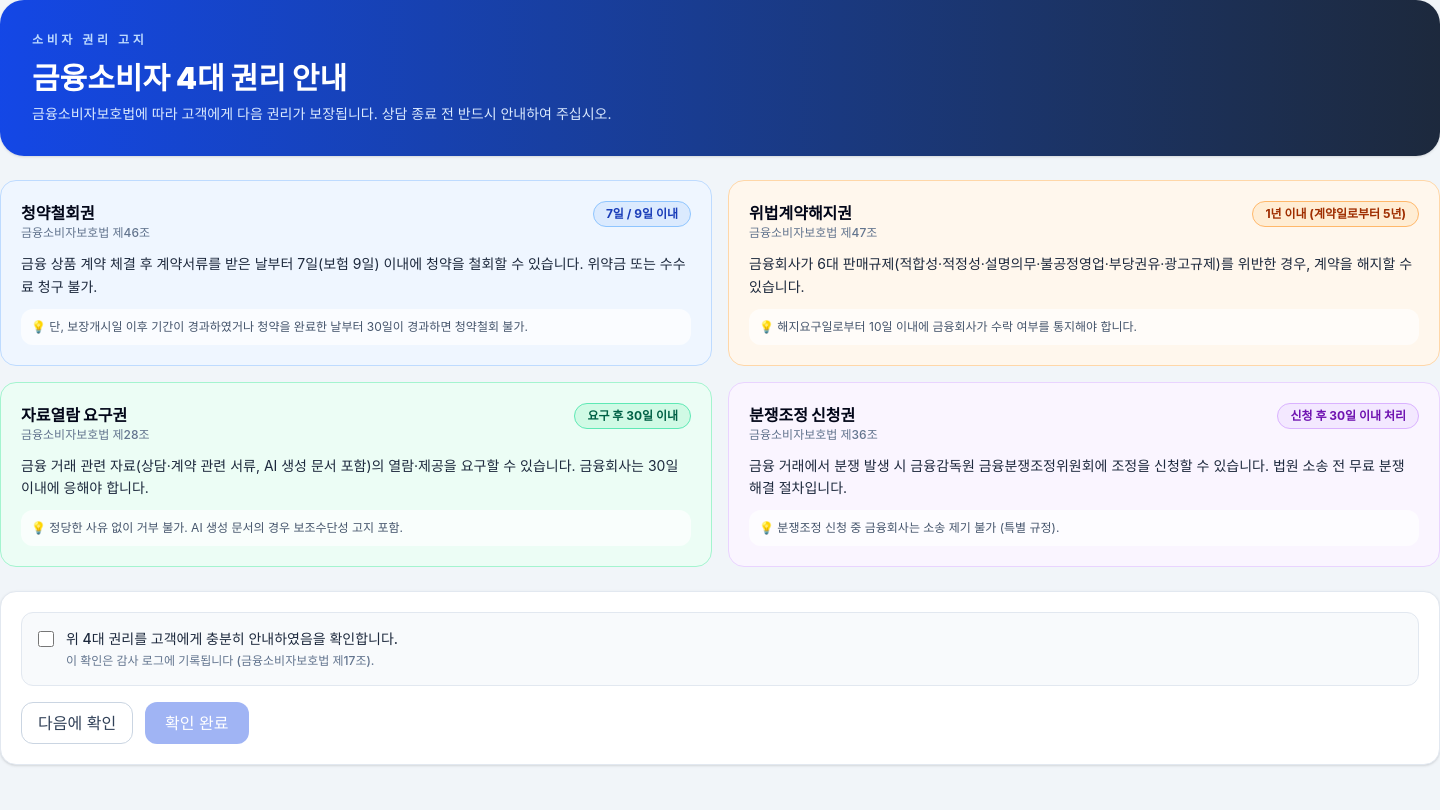
Test: RightsNoticePage a11y › success status has aria-live=polite
Click the checkbox at (46, 639), box [38, 631, 54, 647]
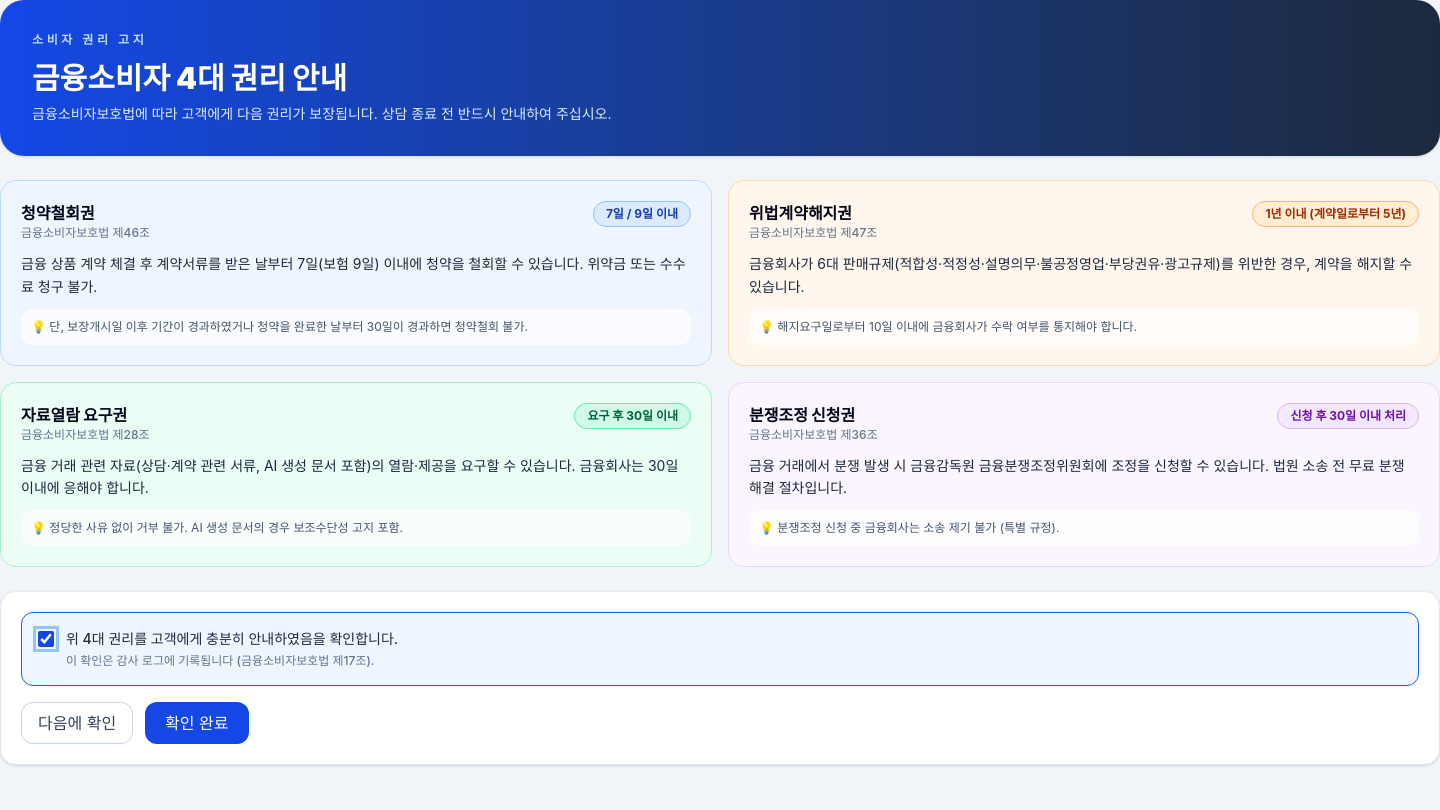
Click the button "확인 완료" at (197, 723), box [145, 702, 248, 744]
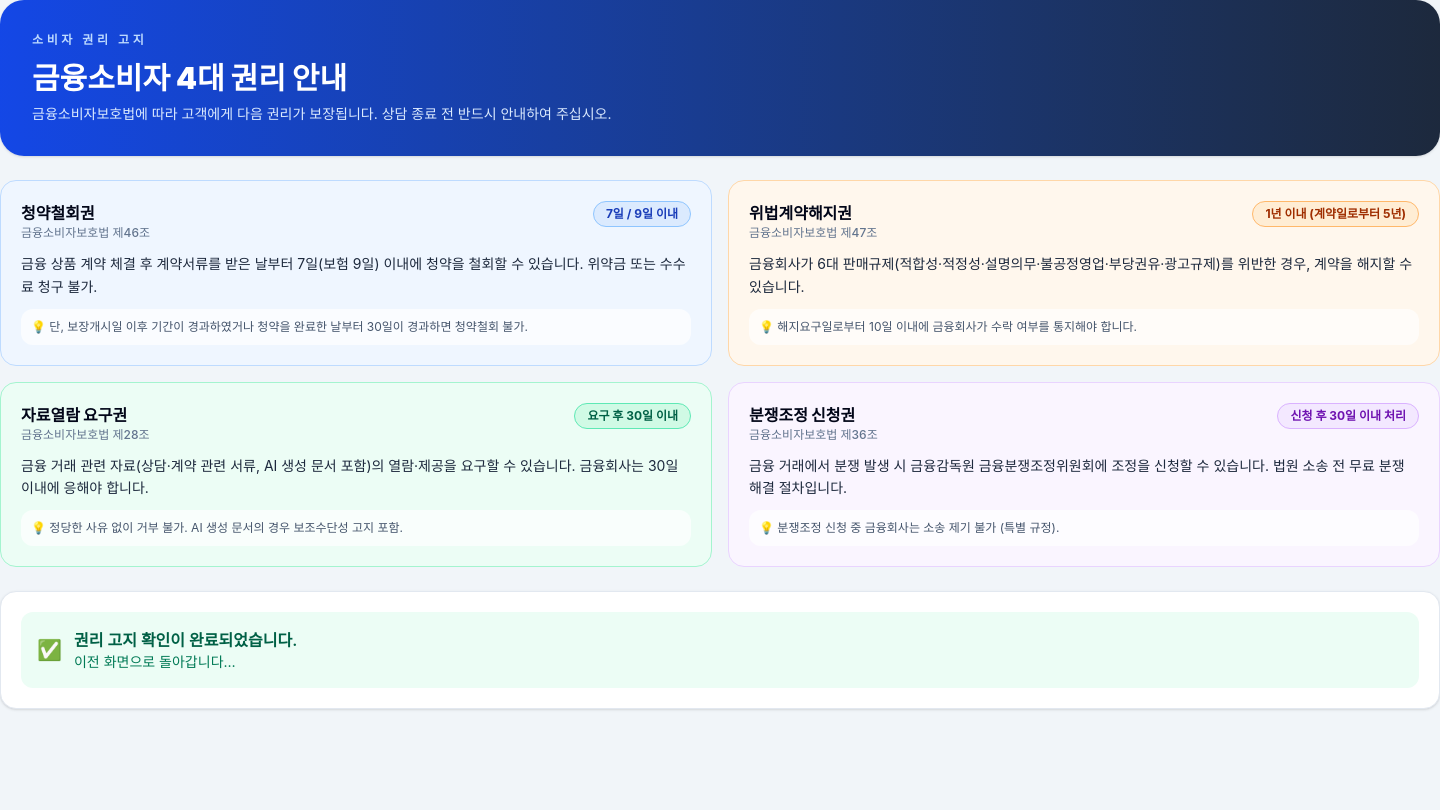
Result: the message has attribute aria-live="polite" at [21, 612, 1419, 688]
